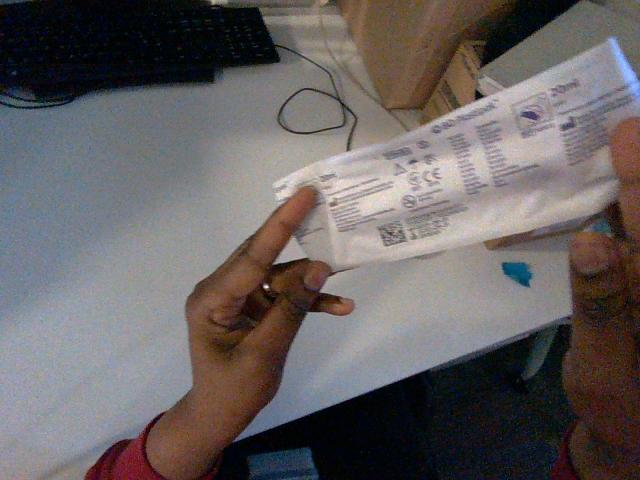syringe: (274, 39, 640, 271)
